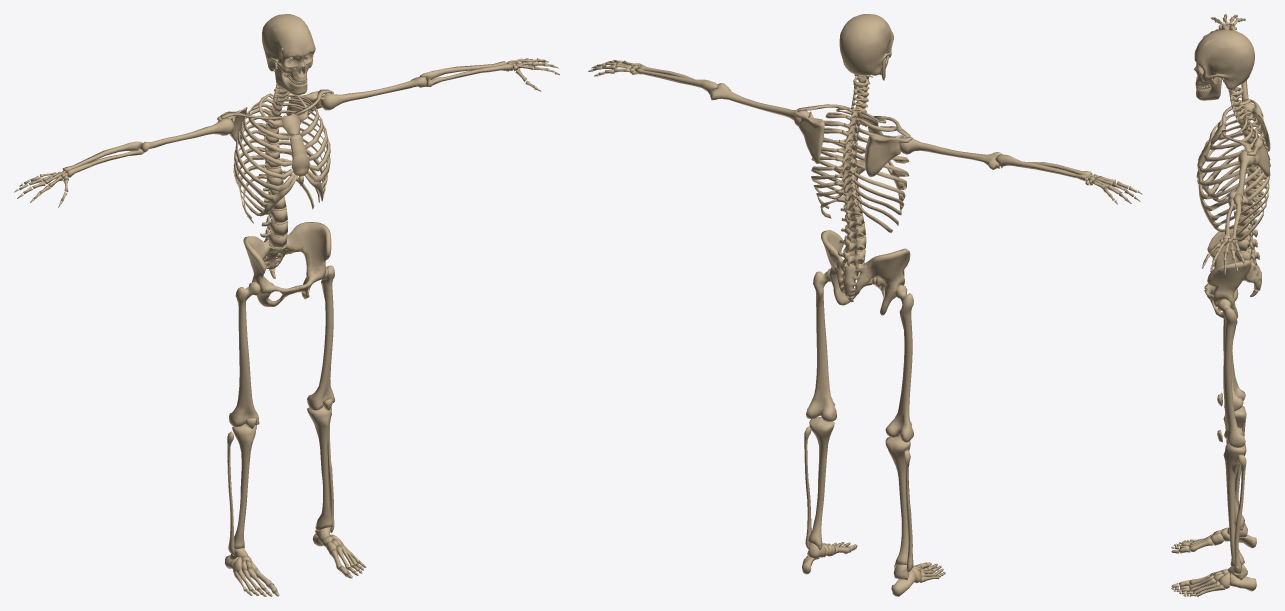
The model's file is skeleton.fbx.
3 views of the same model, side by side, from view 1: azimuth 30°, elevation 25°; view 2: azimuth 150°, elevation 25°; view 3: azimuth 270°, elevation 25° (orthographic). The views are drawn at different scales.
Visible parts, largest first — view 1: MaleSkeletalHipLeftandSacrumGeo, Skull, MaleSkeletalFemurRightGeo, MaleSkeletalFemurLeftGeo, MaleSkeletalTibiaLeftGeo, MaleSkeletalTibiaRightGeo, MaleSkeletalCostalCartilagesGeo, MaleSkeletalSternumGeo, MaleSkeletalHumerusLeftGeo, MaleSkeletalHumerusRightGeo, MaleSkeletalRibs04Geo; view 2: MaleSkeletalHipLeftandSacrumGeo, Skull, MaleSkeletalFemurLeftGeo, MaleSkeletalFemurRightGeo, MaleSkeletalTibiaLeftGeo, MaleSkeletalTibiaRightGeo, MaleSkeletalScapulaLeftGeoRightGeo, MaleSkeletalHumerusRightGeo, MaleSkeletalHumerusLeftGeo, MaleSkeletalScapulaLeftGeo; view 3: Skull, MaleSkeletalHipLeftandSacrumGeo, MaleSkeletalFemurLeftGeo, MaleSkeletalTibiaLeftGeo, MaleSkeletalFibulaLeftGeo, MaleSkeletalCostalCartilagesGeo, MaleSkeletalHumerusLeftGeo, MaleSkeletalScapulaLeftGeo, MaleSkeletalFemurRightGeo, Jaw, MaleSkeletalRibs05Geo, MaleSkeletalTibiaRightGeo (+23 smaller).
Part boxes in pixels (x1,y1,x2,y2): MaleSkeletalHipLeftandSacrumGeo: (243,222,331,306); Skull: (262,14,315,81); MaleSkeletalFemurRightGeo: (229,281,260,427); MaleSkeletalFemurLeftGeo: (307,265,334,410); MaleSkeletalTibiaLeftGeo: (307,406,332,531); MaleSkeletalTibiaRightGeo: (232,424,256,548); MaleSkeletalCostalCartilagesGeo: (251,167,328,216); MaleSkeletalSternumGeo: (281,113,309,185); MaleSkeletalHumerusLeftGeo: (320,77,427,110); MaleSkeletalHumerusRightGeo: (139,118,233,152); MaleSkeletalRibs04Geo: (240,103,328,166); MaleSkeletalHipLeftandSacrumGeo: (821,230,910,315); Skull: (839,14,893,75); MaleSkeletalFemurLeftGeo: (806,268,836,421); MaleSkeletalFemurRightGeo: (885,284,913,442); MaleSkeletalTibiaLeftGeo: (808,417,834,550); MaleSkeletalTibiaRightGeo: (885,436,910,568); MaleSkeletalScapulaLeftGeoRightGeo: (864,133,912,177); MaleSkeletalHumerusRightGeo: (899,136,1002,169); MaleSkeletalHumerusLeftGeo: (709,83,809,126); MaleSkeletalScapulaLeftGeo: (794,109,824,163); Skull: (1194,29,1254,89); MaleSkeletalHipLeftandSacrumGeo: (1204,228,1261,318); MaleSkeletalFemurLeftGeo: (1217,299,1245,447); MaleSkeletalTibiaLeftGeo: (1223,443,1246,566); MaleSkeletalFibulaLeftGeo: (1234,454,1246,574); MaleSkeletalCostalCartilagesGeo: (1198,166,1227,232); MaleSkeletalHumerusLeftGeo: (1228,150,1254,206); MaleSkeletalScapulaLeftGeo: (1241,137,1270,176); MaleSkeletalFemurRightGeo: (1223,318,1245,410); Jaw: (1196,77,1221,100); MaleSkeletalRibs05Geo: (1198,130,1264,186); MaleSkeletalTibiaRightGeo: (1223,406,1246,530).
Bounding box in the file's own units: 160 × 156 × 26.13.
